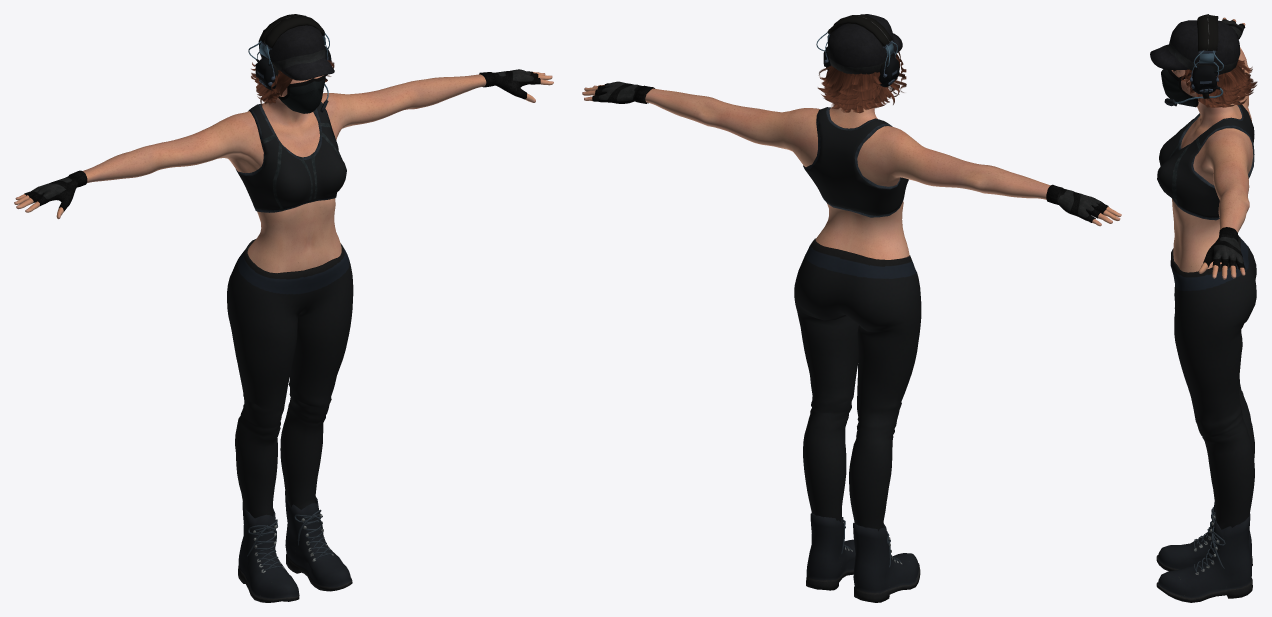
Rendered from sci-_fi_female_warrior.glb.
The picture shows the model from 3 angles, left to right: view 1: azimuth 30°, elevation 25°; view 2: azimuth 150°, elevation 25°; view 3: azimuth 270°, elevation 25°; orthographic projection.
Parts seen in each view (by area): view 1: Object_5, Object_2, Object_10, Object_11, Object_8, Object_6, Object_9, Object_7; view 2: Object_5, Object_2, Object_10, Object_11, Object_8, Object_7, Object_6; view 3: Object_5, Object_2, Object_10, Object_8, Object_11, Object_7, Object_6, Object_9.
Part boxes in pixels (x1,y1,x2,y2): Object_5: [227, 239, 353, 518]; Object_2: [14, 71, 553, 273]; Object_10: [238, 491, 352, 602]; Object_11: [236, 102, 346, 212]; Object_8: [248, 14, 334, 112]; Object_6: [24, 69, 540, 211]; Object_9: [278, 75, 325, 113]; Object_7: [251, 58, 334, 105]; Object_5: [794, 238, 921, 531]; Object_2: [582, 84, 1121, 259]; Object_10: [806, 513, 920, 602]; Object_11: [803, 107, 908, 217]; Object_8: [816, 14, 902, 87]; Object_7: [817, 51, 906, 113]; Object_6: [592, 81, 1108, 222]; Object_5: [1170, 235, 1256, 529]; Object_2: [1171, 17, 1253, 279]; Object_10: [1156, 502, 1252, 602]; Object_8: [1150, 14, 1240, 106]; Object_11: [1157, 101, 1254, 220]; Object_7: [1180, 60, 1257, 107]; Object_6: [1203, 19, 1245, 269]; Object_9: [1161, 69, 1198, 107].
Size of the model in its own units: 1.71 by 1.72 by 0.2991.
Materials: 8 (8 with a texture image).
